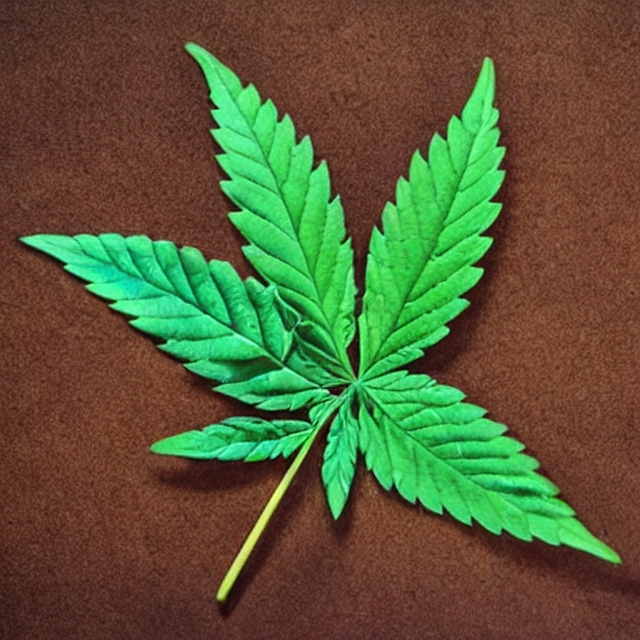Marijuana Leaf: (17, 39, 623, 603)
